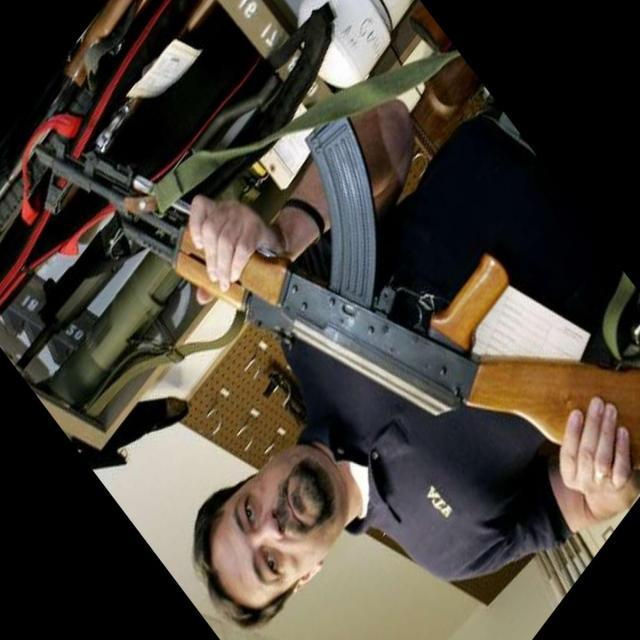weapon: (34, 112, 640, 474)
